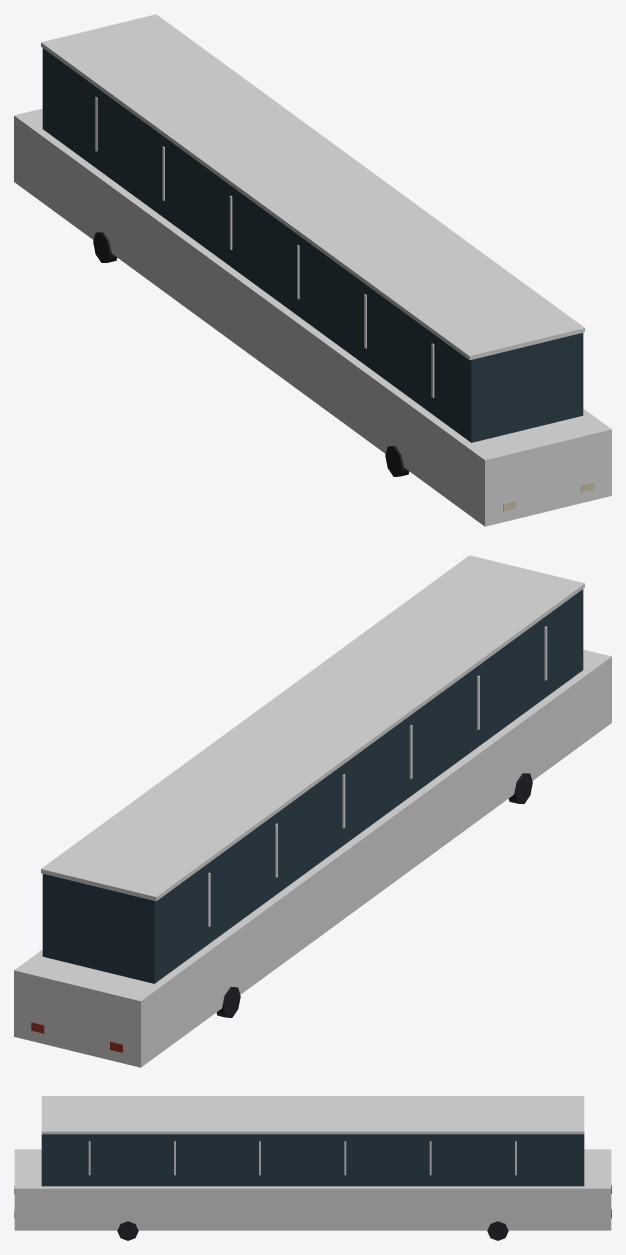
File: veh_metro_1.00f3591b4611.glb
The picture shows the model from 3 angles, top to bottom: view 1: azimuth 30°, elevation 25°; view 2: azimuth 150°, elevation 25°; view 3: azimuth 270°, elevation 25°; orthographic projection. The views are drawn at different scales.
Parts seen in each view (by area): view 1: LOD0; view 2: LOD0; view 3: LOD0.
Part boxes in pixels (x1,y1,x2,y2): LOD0: [14, 14, 611, 526]; LOD0: [14, 555, 611, 1067]; LOD0: [14, 1096, 611, 1240].
Size of what is drawn, in the model's own units: 2.89 by 3.56 by 18.04.
